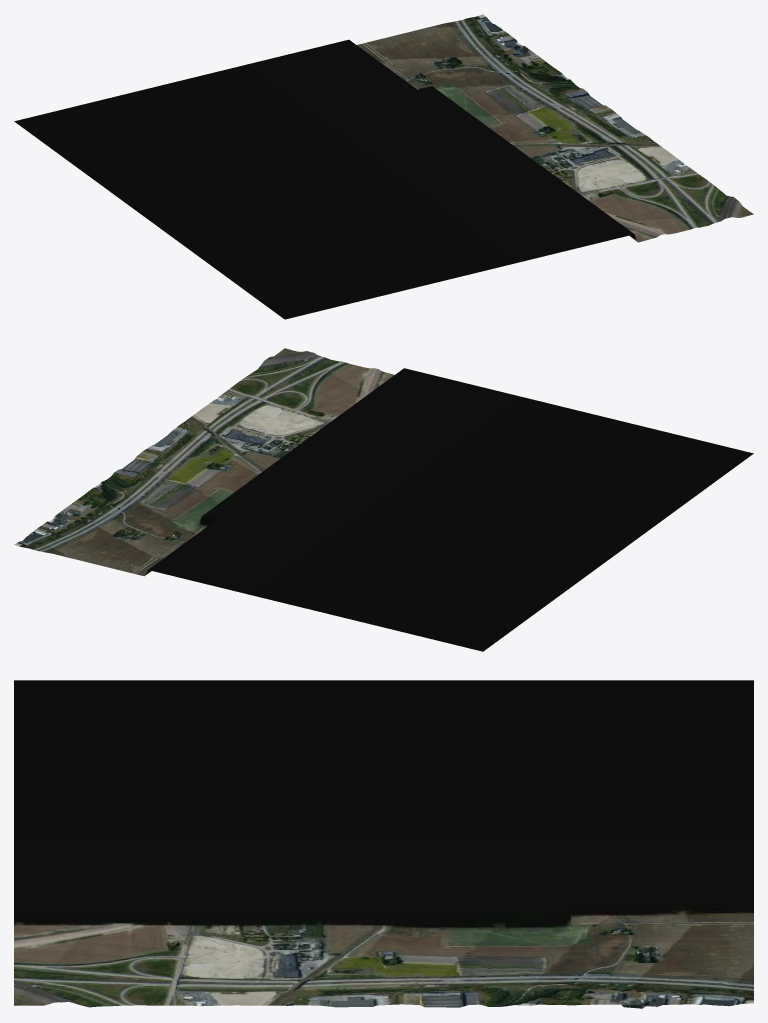
File: map_10_247_426.dae
3 views of the same model, one above another, from view 1: azimuth 30°, elevation 25°; view 2: azimuth 150°, elevation 25°; view 3: azimuth 270°, elevation 25° (orthographic). The views are drawn at different scales.
Parts seen in each view (by area): view 1: Ter0; view 2: Ter0; view 3: Ter0.
Part boxes in pixels (x1=…): Ter0: x1=14, y1=14, x2=753, y2=319; Ter0: x1=14, y1=348, x2=753, y2=651; Ter0: x1=14, y1=680, x2=753, y2=1008.
Bounding box in the file's own units: 2044 × 2044 × 56.35.
4 materials, 4 textured.
